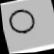no answer: (4, 6, 39, 37)
